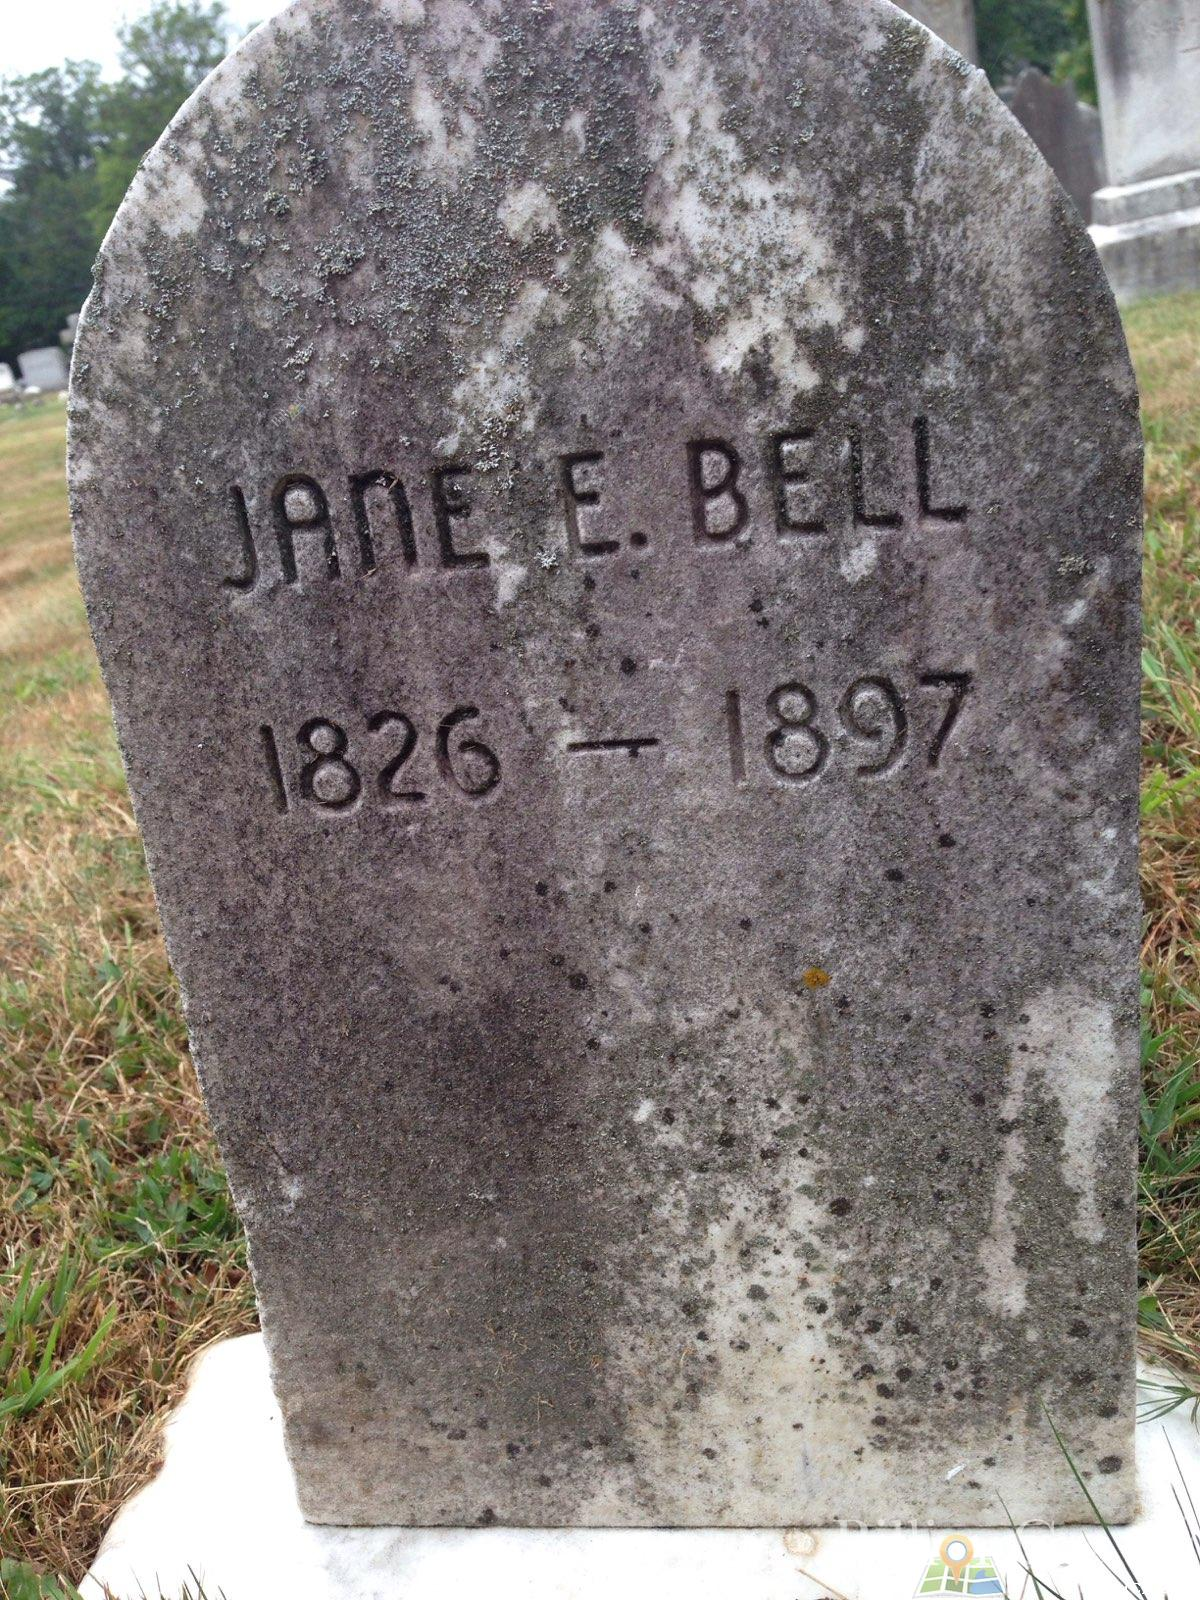upright: (25, 9, 1180, 1587)
